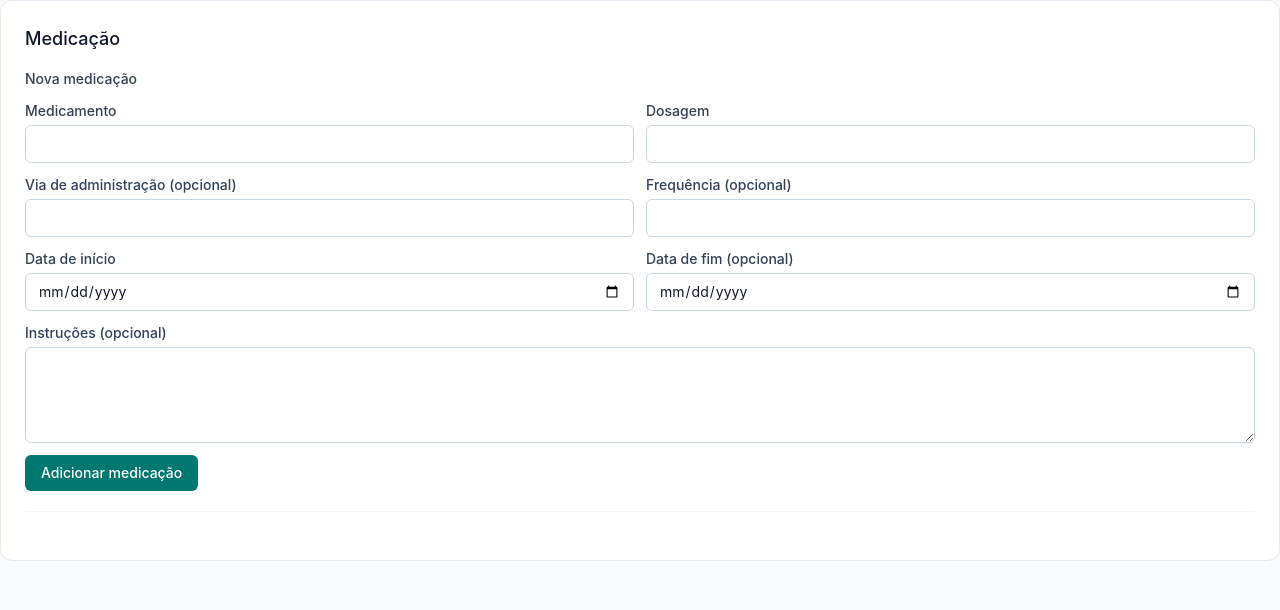
Scenario: MedicationsSection › create › confirms success and clears the form
In the field labelled "Medicamento": [330, 144] box [25,125,634,163], type "Paracetamol"
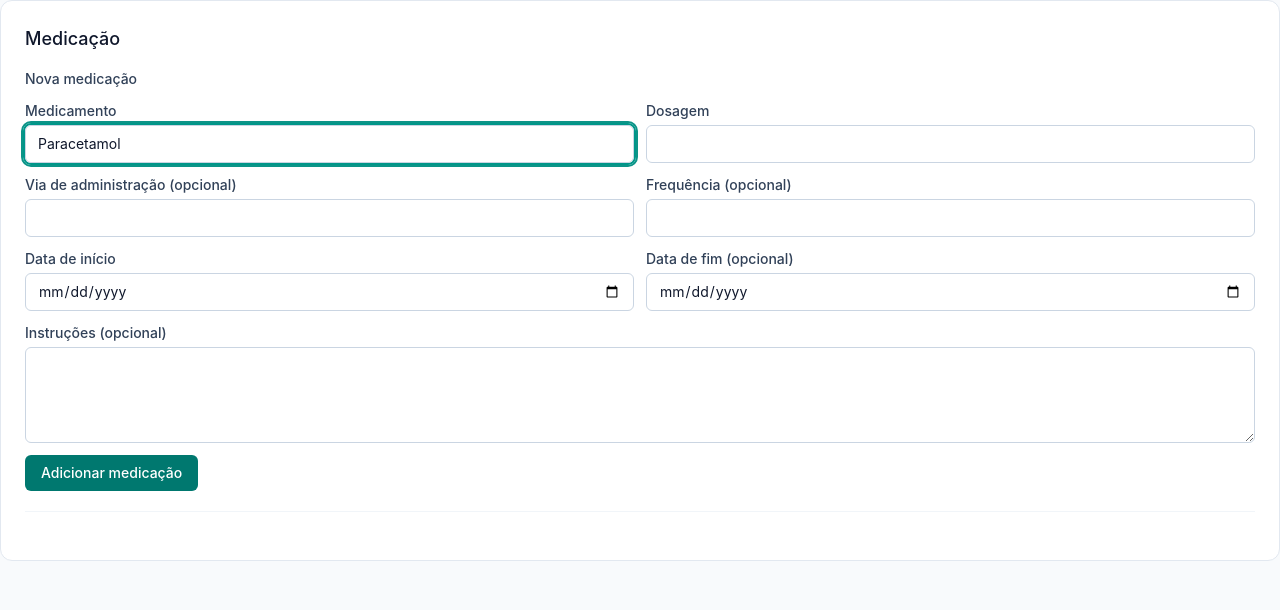
In the field labelled "Dosagem": [950, 144] box [646,125,1255,163], type "1 g"
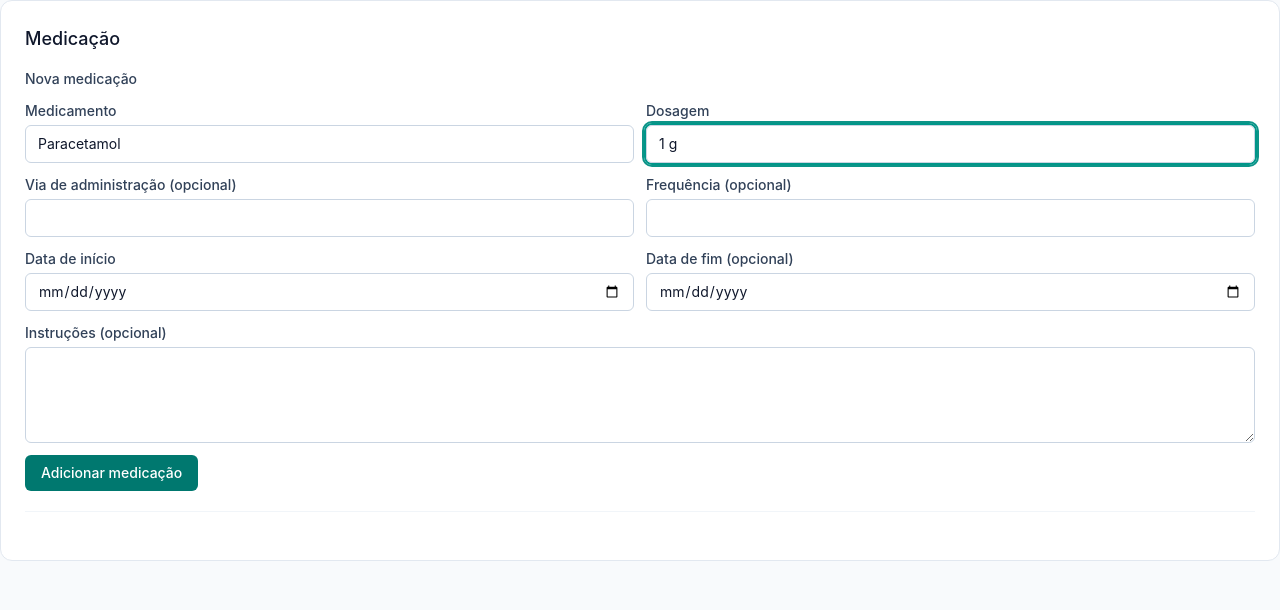
In the date field labelled "Data de início": [330, 292] box [25,273,634,311], type "2026-10-01"
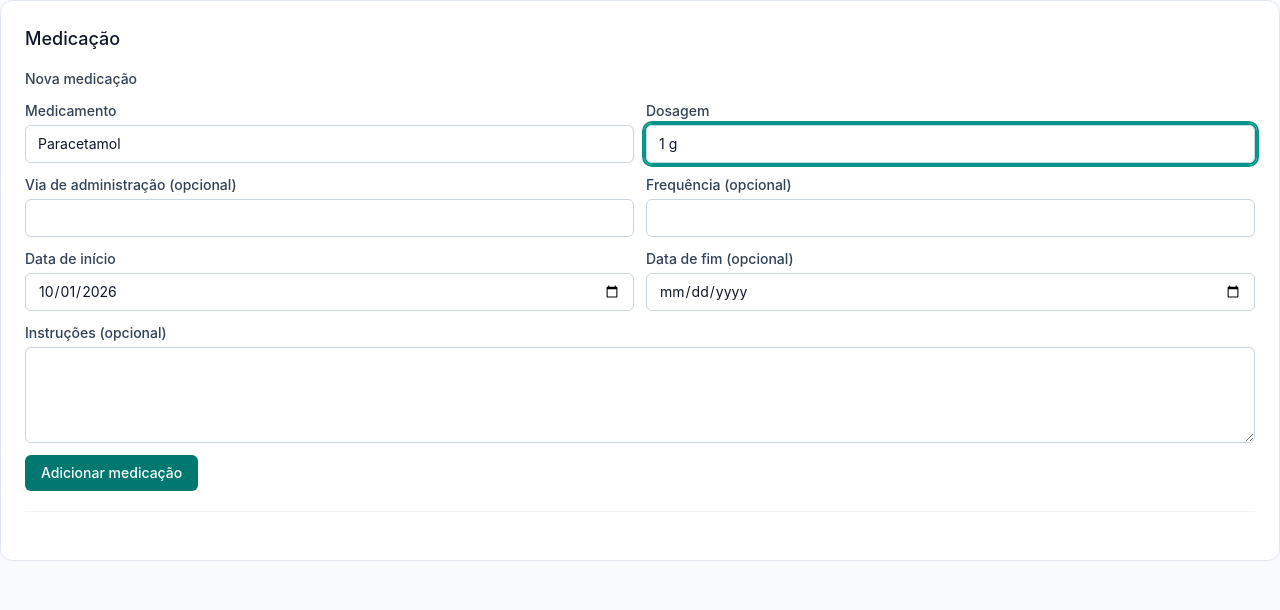
Click the button "Adicionar medicação": [112, 473] box [25,455,198,491]
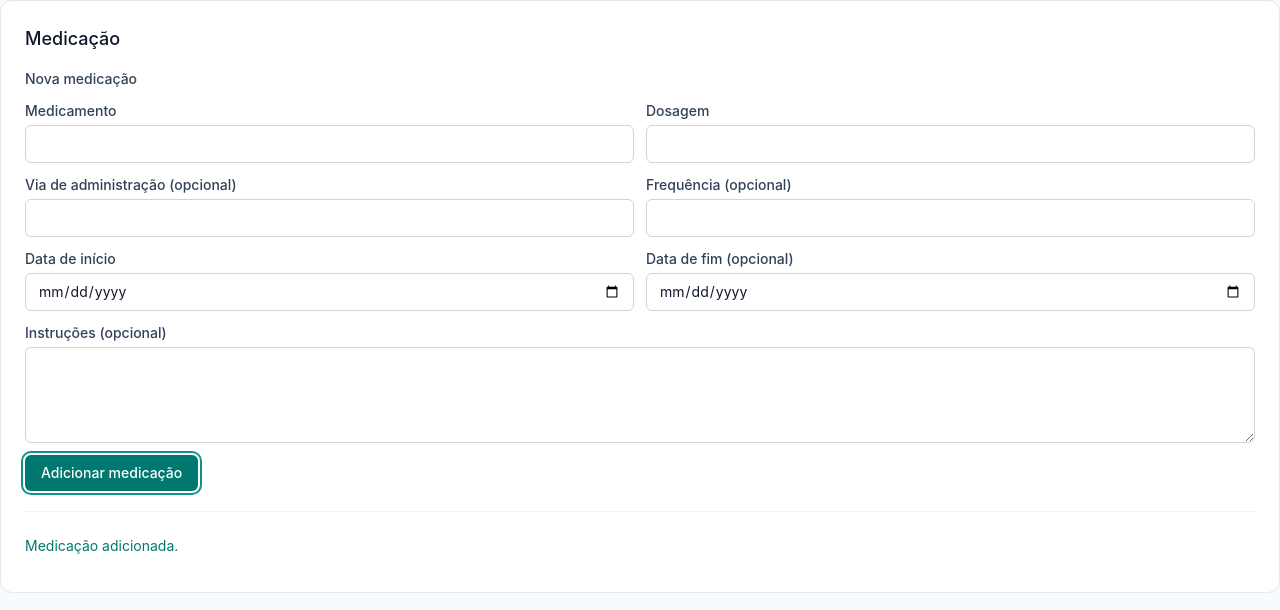
expect the message reads "Medicação adicionada.": met, box [25,537,178,554]
expect the field labelled "Medicamento" is empty: met, box [25,125,634,163]
